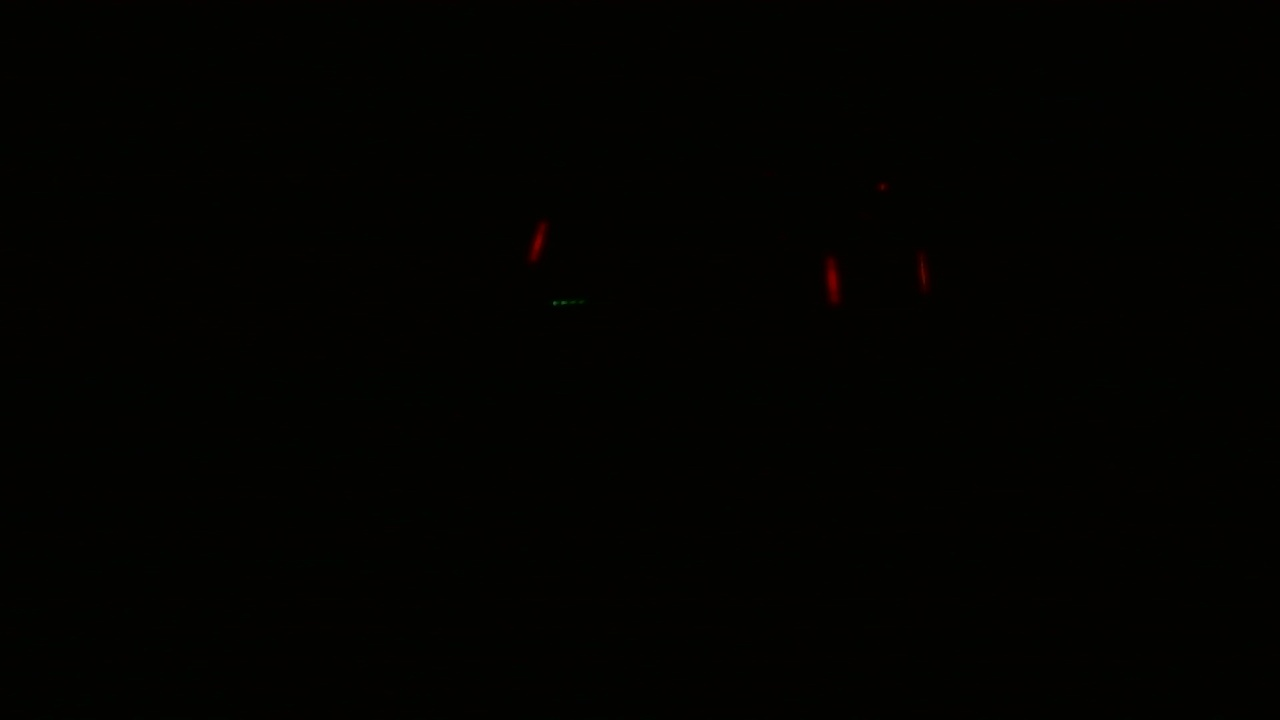pair1: (820, 249, 930, 301)
